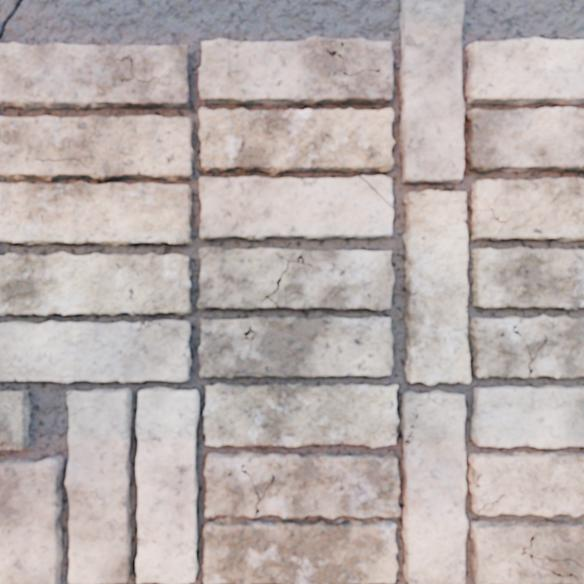brick: (203, 452, 399, 583), (199, 37, 392, 104), (199, 108, 393, 174), (66, 388, 131, 583), (404, 191, 469, 384), (402, 391, 467, 583), (0, 43, 188, 109), (0, 115, 193, 179), (198, 247, 393, 310), (204, 383, 397, 446), (136, 388, 198, 583), (200, 177, 392, 239), (0, 182, 191, 244), (399, 0, 463, 182), (0, 253, 190, 314), (199, 317, 392, 377), (0, 322, 190, 382), (0, 457, 63, 583), (466, 38, 583, 104), (465, 108, 583, 171), (469, 452, 583, 516), (471, 520, 583, 583), (470, 316, 583, 377), (471, 179, 583, 240), (472, 386, 583, 447), (472, 248, 583, 308), (0, 391, 29, 450), (401, 392, 426, 438), (363, 176, 391, 203), (160, 320, 189, 338)
crack: (260, 251, 313, 308), (520, 534, 583, 581), (325, 37, 382, 76), (134, 321, 188, 359), (404, 392, 441, 447), (512, 324, 550, 377), (240, 463, 277, 517), (358, 176, 393, 208), (501, 269, 528, 307), (0, 0, 23, 39), (477, 493, 506, 514), (69, 405, 89, 416), (234, 371, 266, 375), (66, 390, 73, 397), (0, 211, 6, 215)
